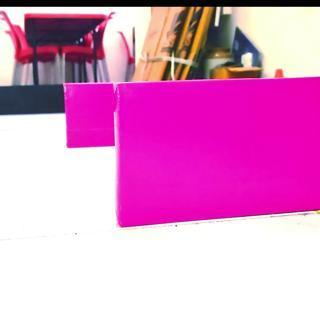xparking: (115, 78, 320, 230), (64, 80, 112, 148)
